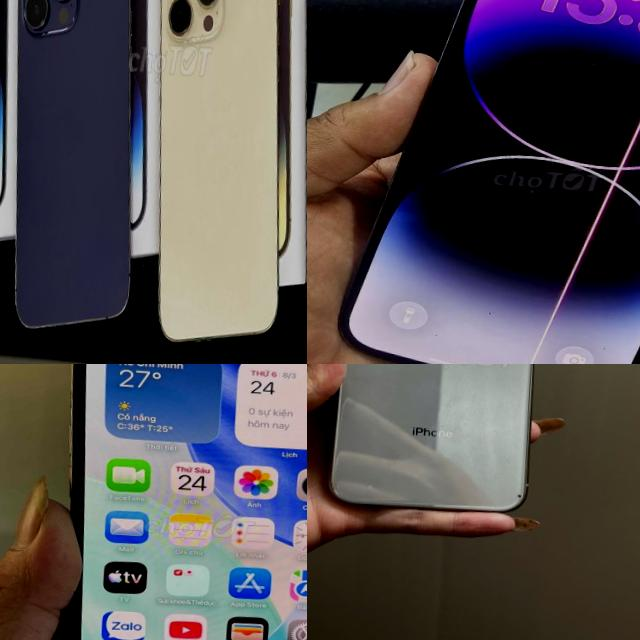scratch: (507, 486, 529, 501)
